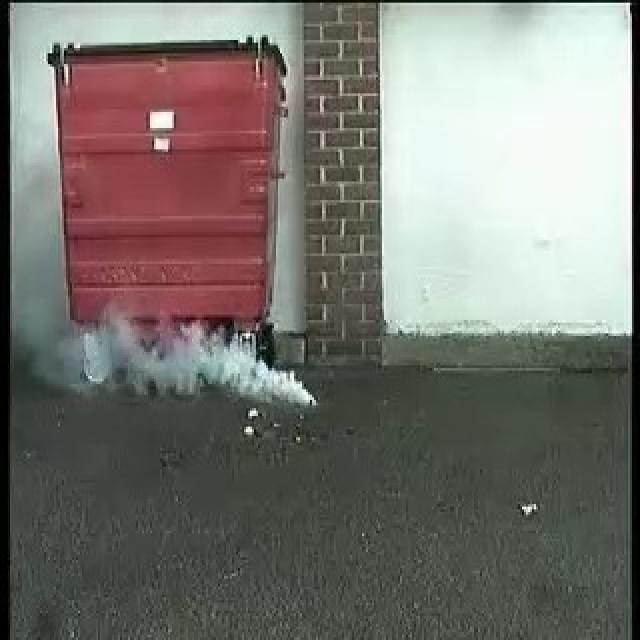smoke: (76, 298, 318, 404)
